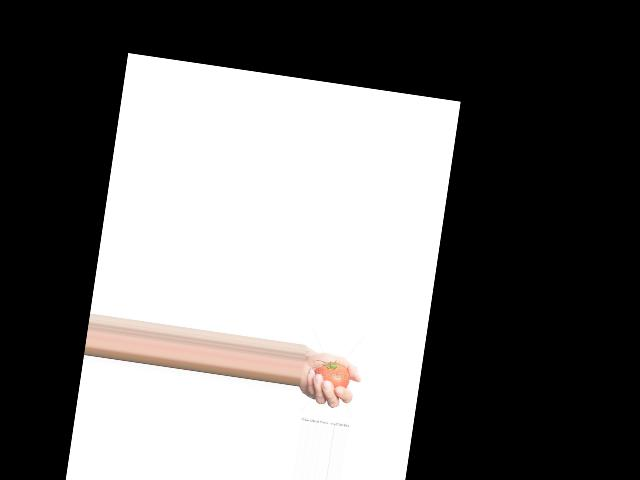tomato: (313, 359, 352, 389)
